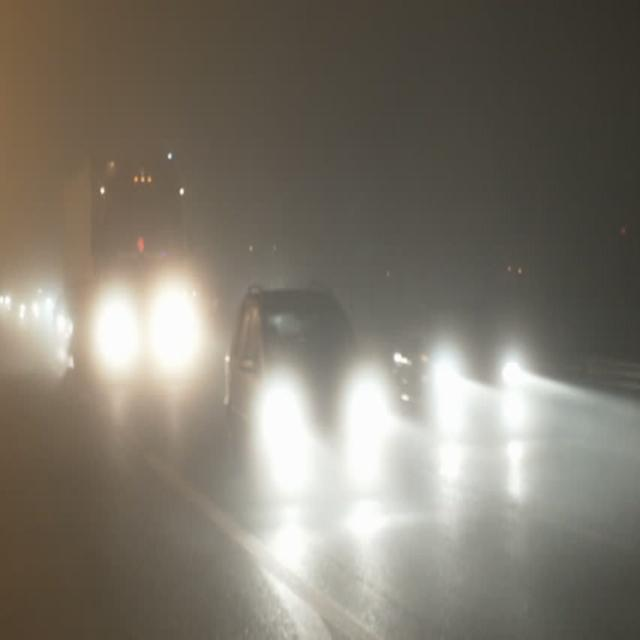bus: (65, 154, 195, 393)
car: (223, 283, 383, 488), (392, 299, 532, 441), (53, 282, 77, 355)
